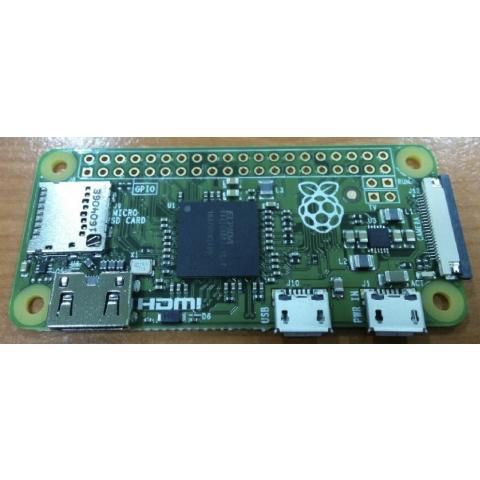Raspberry-Pi-Zero: (9, 142, 473, 336)
